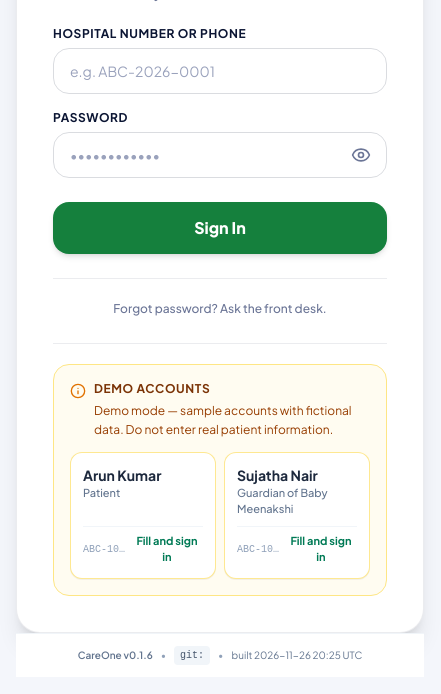
Test: PatientSignIn — demo card integration — demoMode: true › clicking Arun Kumar fill button updates username and password inputs
(page scrolled)
Expected: the text "Arun Kumar" is shown, left=83, top=466, right=161, bottom=484
Click the button "Arun Kumar Patient": [143, 483] box left=83, top=464, right=203, bottom=501
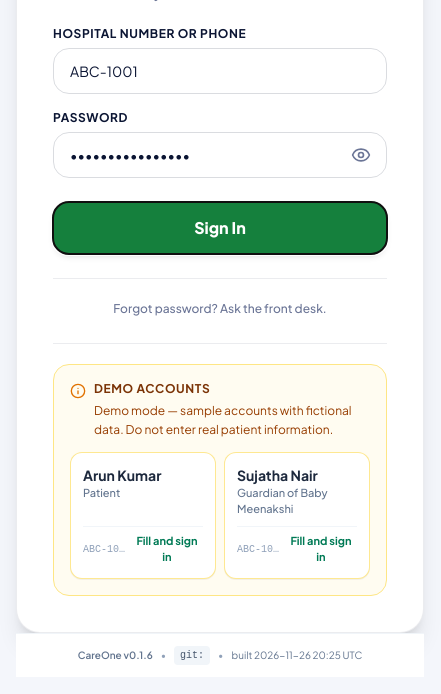
Expected: the field labelled "Hospital number or phone" holds "ABC-1001", left=53, top=48, right=387, bottom=94
Expected: the password field labelled "Password" holds "DemoPassword123!", left=53, top=132, right=387, bottom=178
